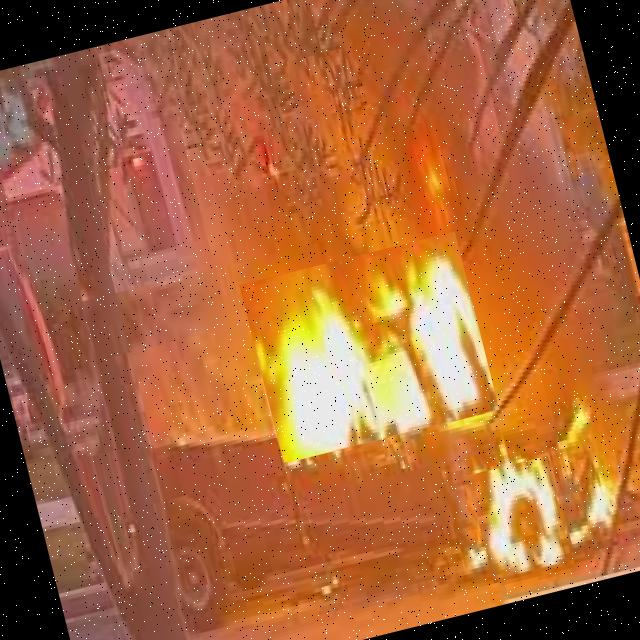fire: (238, 231, 498, 464), (467, 455, 574, 583)
